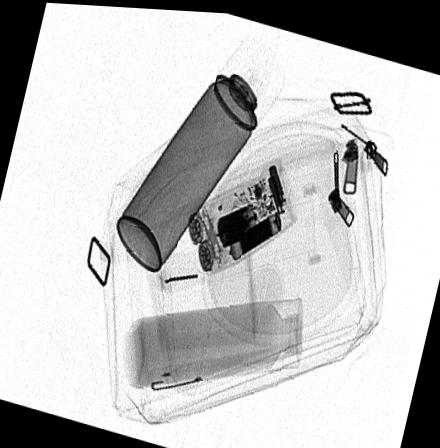Sprayer: (115, 32, 283, 270)
